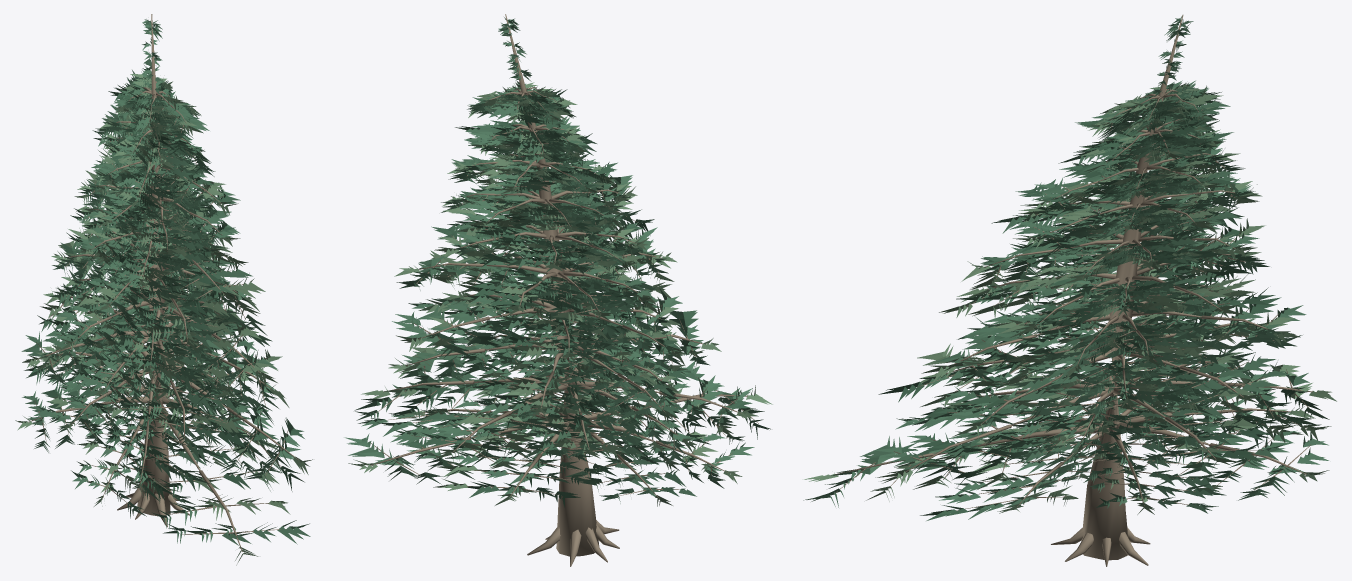
File: cedar_9.glb
The picture shows the model from 3 angles, left to right: view 1: azimuth 30°, elevation 25°; view 2: azimuth 150°, elevation 25°; view 3: azimuth 270°, elevation 25°; orthographic projection. The views are drawn at different scales.
Parts seen in each view (by area): view 1: tree_conifer_ConiferLeaf, tree_conifer_ConiferLeafLight, tree_conifer_ConiferLeafDark, tree_conifer_ConiferBark; view 2: tree_conifer_ConiferLeaf, tree_conifer_ConiferLeafLight, tree_conifer_ConiferLeafDark, tree_conifer_ConiferBark; view 3: tree_conifer_ConiferLeaf, tree_conifer_ConiferLeafLight, tree_conifer_ConiferLeafDark, tree_conifer_ConiferBark.
Boxes of the visible parts, x1=… form: tree_conifer_ConiferLeaf: x1=21, y1=19, x2=310, y2=545; tree_conifer_ConiferLeafLight: x1=15, y1=72, x2=312, y2=565; tree_conifer_ConiferLeafDark: x1=24, y1=77, x2=304, y2=543; tree_conifer_ConiferBark: x1=28, y1=14, x2=298, y2=551; tree_conifer_ConiferLeaf: x1=344, y1=17, x2=764, y2=503; tree_conifer_ConiferLeafLight: x1=348, y1=81, x2=772, y2=506; tree_conifer_ConiferLeafDark: x1=354, y1=84, x2=770, y2=507; tree_conifer_ConiferBark: x1=369, y1=14, x2=758, y2=566; tree_conifer_ConiferLeaf: x1=803, y1=16, x2=1329, y2=519; tree_conifer_ConiferLeafLight: x1=804, y1=83, x2=1336, y2=514; tree_conifer_ConiferLeafDark: x1=878, y1=82, x2=1321, y2=520; tree_conifer_ConiferBark: x1=833, y1=15, x2=1316, y2=566.
Bounding box in the file's own units: 7.43 × 13.02 × 11.41.
